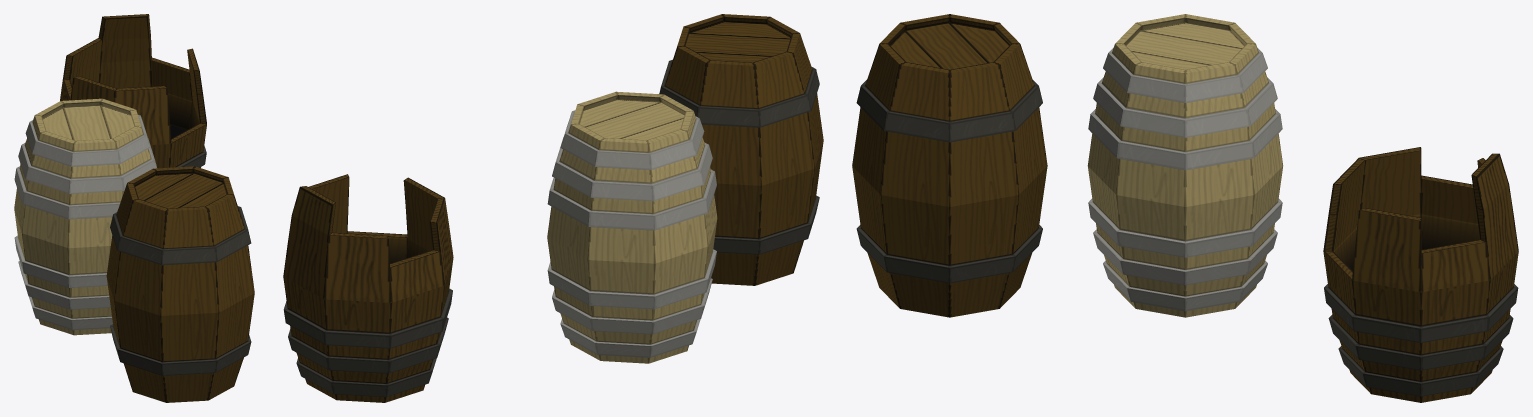
File: Barrels 1.fbx
The picture shows the model from 3 angles, left to right: view 1: azimuth 30°, elevation 25°; view 2: azimuth 150°, elevation 25°; view 3: azimuth 270°, elevation 25°; orthographic projection. The views are drawn at different scales.
Visible parts, largest first — view 1: Ration Barrel, Grog Barrel, Broken Barrel; view 2: Grog Barrel, Ration Barrel, Broken Barrel; view 3: Grog Barrel, Ration Barrel, Broken Barrel.
Boxes of the visible parts, x1,y1,x2,y2 form: Ration Barrel: (106, 166, 254, 402); Grog Barrel: (14, 98, 156, 335); Broken Barrel: (60, 14, 206, 168); Grog Barrel: (547, 91, 717, 363); Ration Barrel: (659, 14, 823, 285); Broken Barrel: (283, 174, 453, 402); Grog Barrel: (1087, 14, 1283, 317); Ration Barrel: (852, 14, 1047, 317); Broken Barrel: (1323, 147, 1518, 402).
Bounding box in the file's own units: 413 × 280 × 693.
